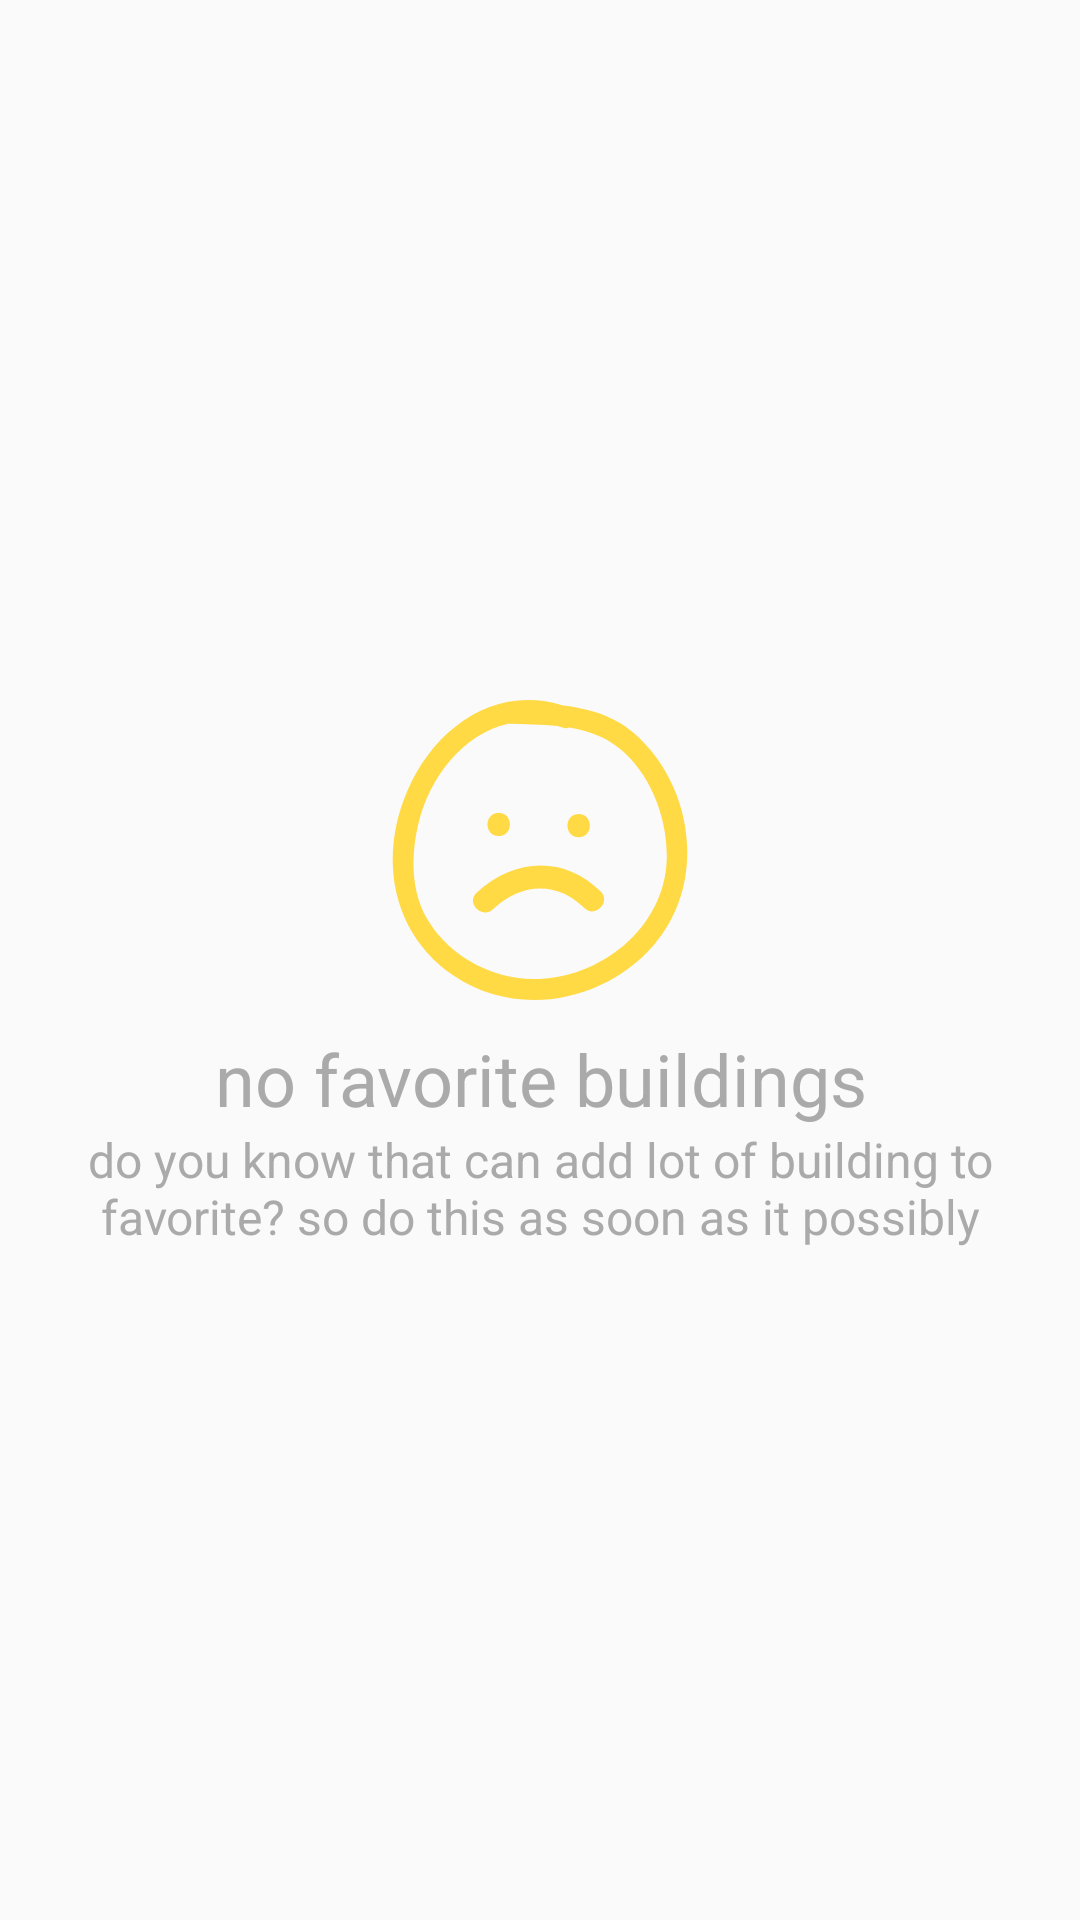

Point at icon controls on the screen. Image size 1080x1920, points as [x,y].
sad face: [540,850]
